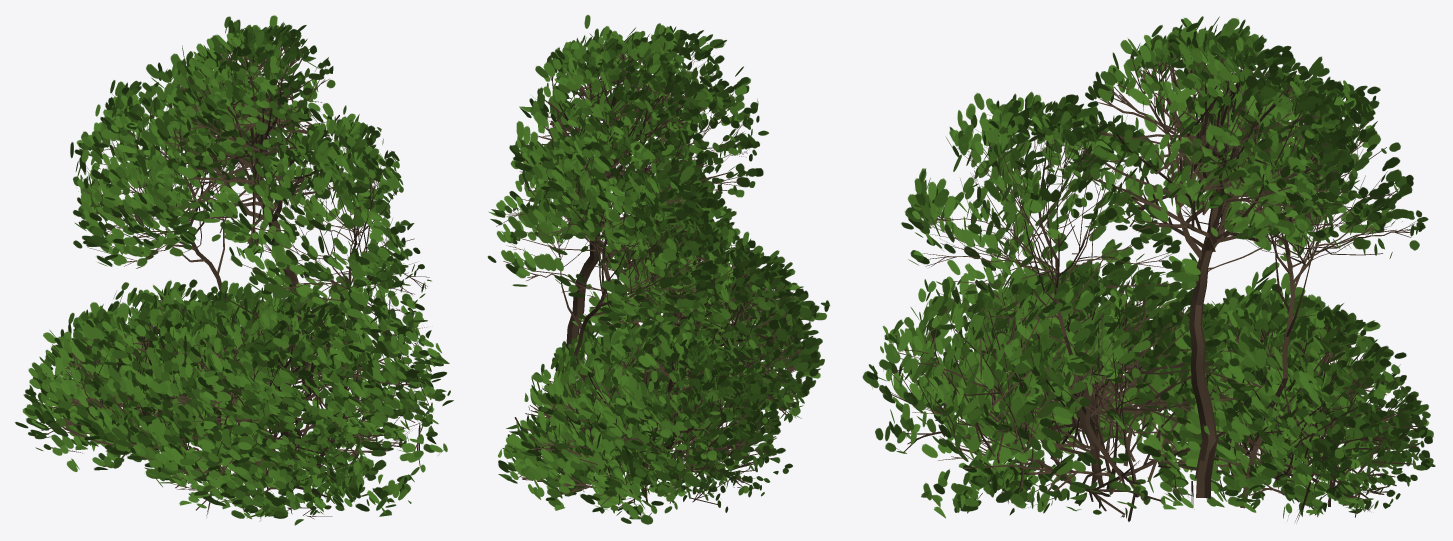
3 renders of one model, left to right at view 1: azimuth 30°, elevation 25°; view 2: azimuth 150°, elevation 25°; view 3: azimuth 270°, elevation 25°, orthographic. The views are drawn at different scales.
Parts seen in each view (by area): view 1: oak 01.001_trunk_Mat.001_0.246; view 2: oak 01.001_trunk_Mat.001_0.246; view 3: oak 01.001_trunk_Mat.001_0.246.
Boxes of the visible parts, x1=… form: oak 01.001_trunk_Mat.001_0.246: x1=15, y1=15, x2=453, y2=525; oak 01.001_trunk_Mat.001_0.246: x1=487, y1=14, x2=830, y2=524; oak 01.001_trunk_Mat.001_0.246: x1=862, y1=16, x2=1435, y2=521.
Bounding box in the file's own units: 3.27 × 5.01 × 5.24.
Materials: 2 (1 with a texture image).
